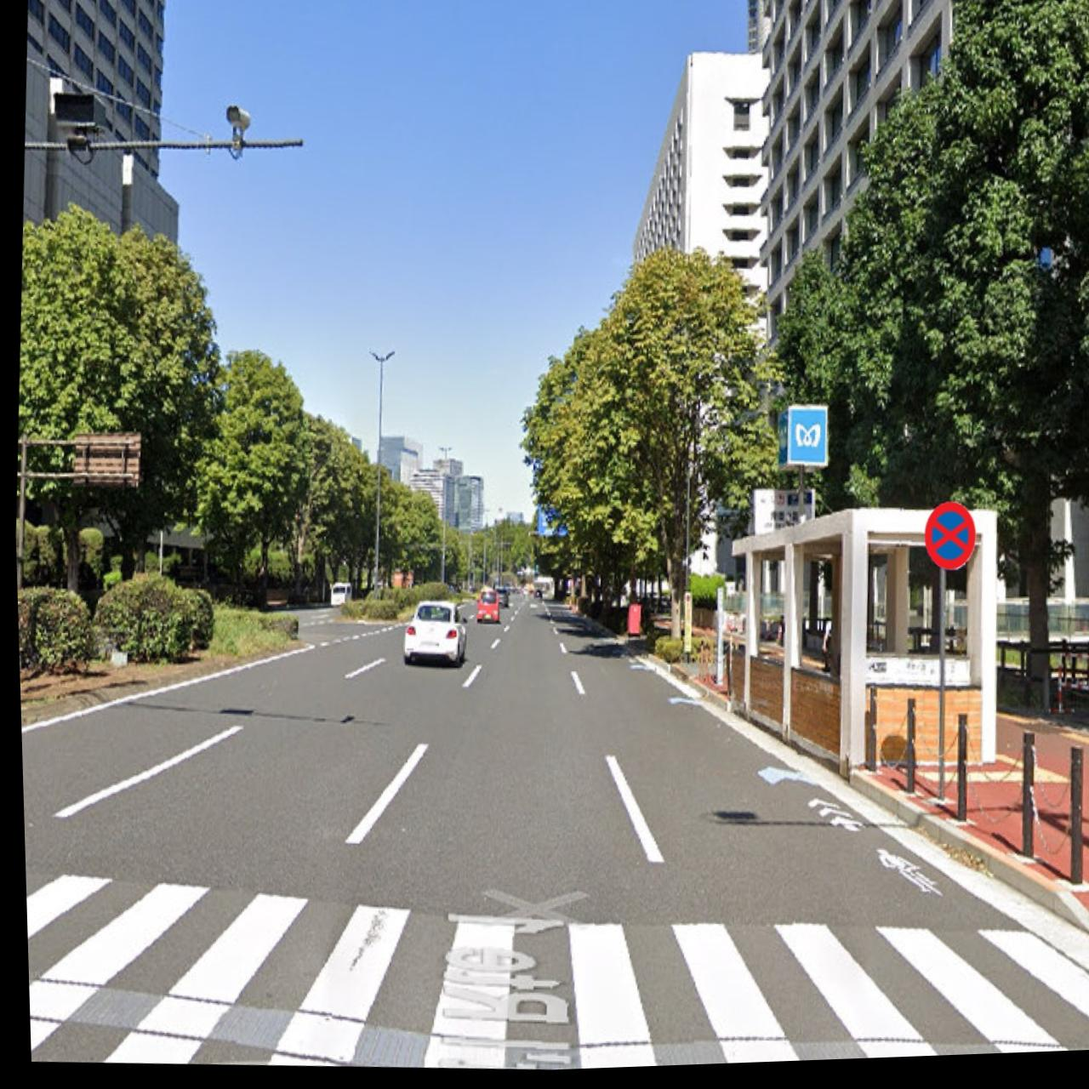stop_sign: (917, 497, 980, 575)
